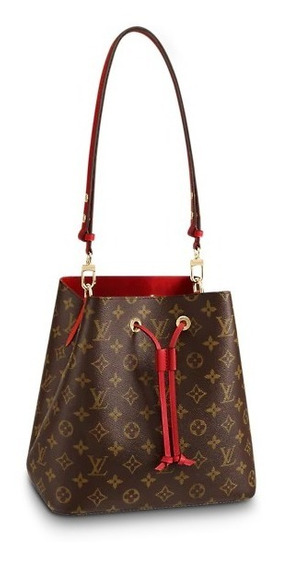cartera: (24, 25, 257, 517)
